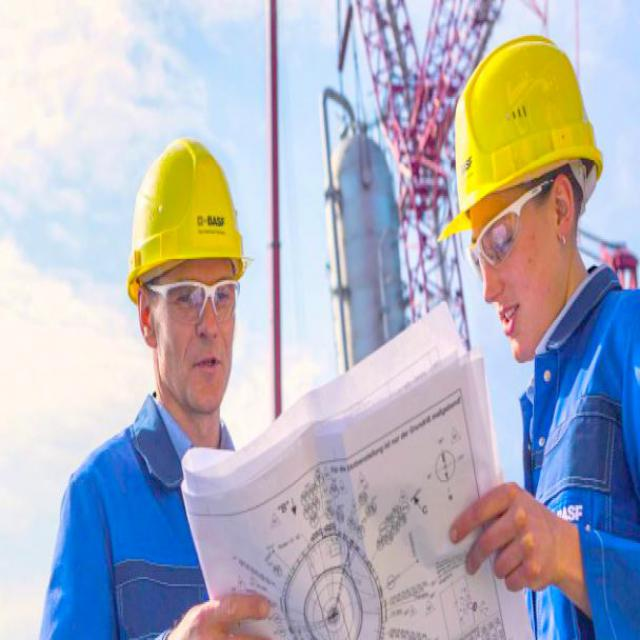helmet: (454, 43, 599, 330), (122, 130, 264, 412)
